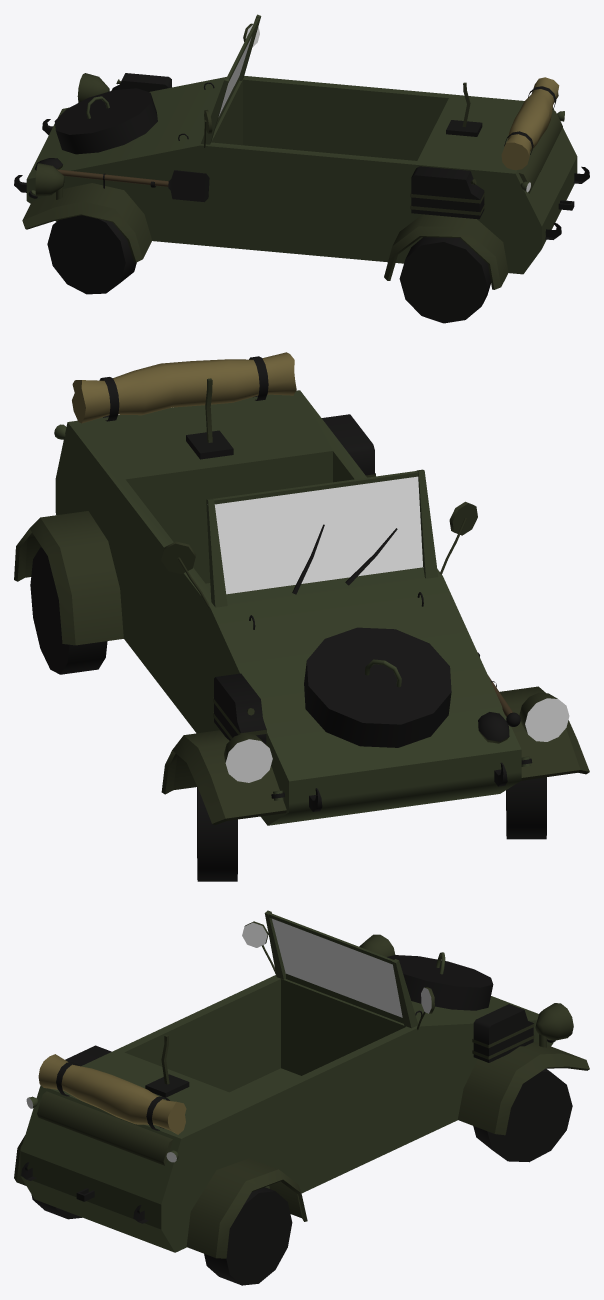
The model's file is kubelwagen-color.fbx.
3 renders of one model, top to bottom at view 1: azimuth 30°, elevation 25°; view 2: azimuth 150°, elevation 25°; view 3: azimuth 270°, elevation 25°, orthographic. The views are drawn at different scales.
Visible parts, largest first — view 1: Mashinka_1; view 2: Mashinka_1; view 3: Mashinka_1.
Boxes of the visible parts, x1,y1,x2,y2 form: Mashinka_1: (14, 14, 589, 323); Mashinka_1: (14, 352, 589, 881); Mashinka_1: (14, 910, 589, 1285).
Bounding box in the file's own units: 423 × 180 × 409.
